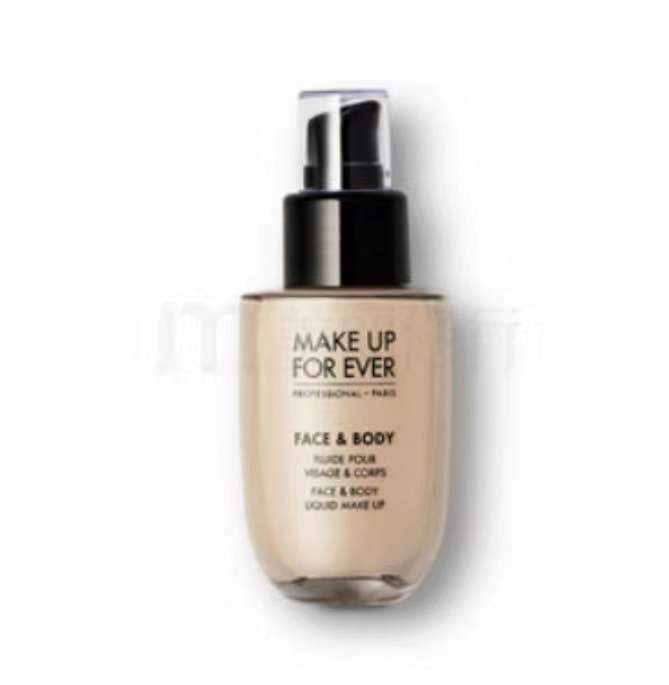cosmetic: (240, 88, 454, 609)
